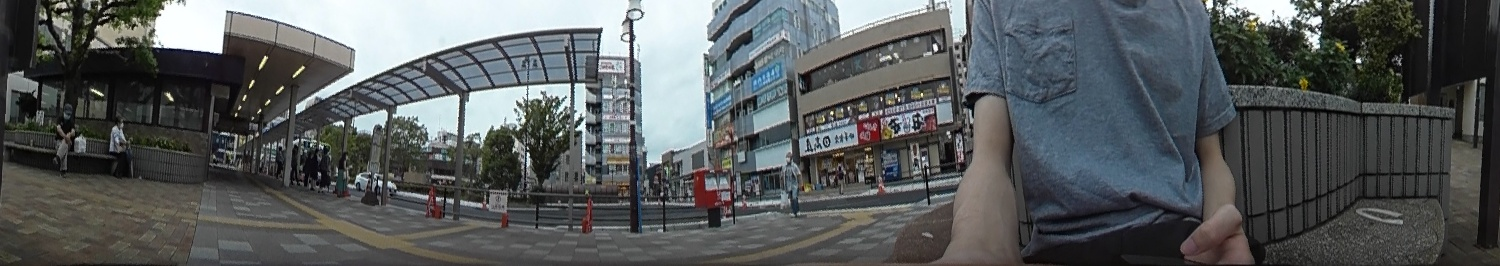difficult_person: (336, 152, 351, 195), (319, 146, 333, 190), (309, 148, 320, 190), (289, 144, 300, 182), (835, 161, 845, 194)
person: (52, 101, 77, 172), (109, 116, 134, 177), (783, 153, 802, 214)
